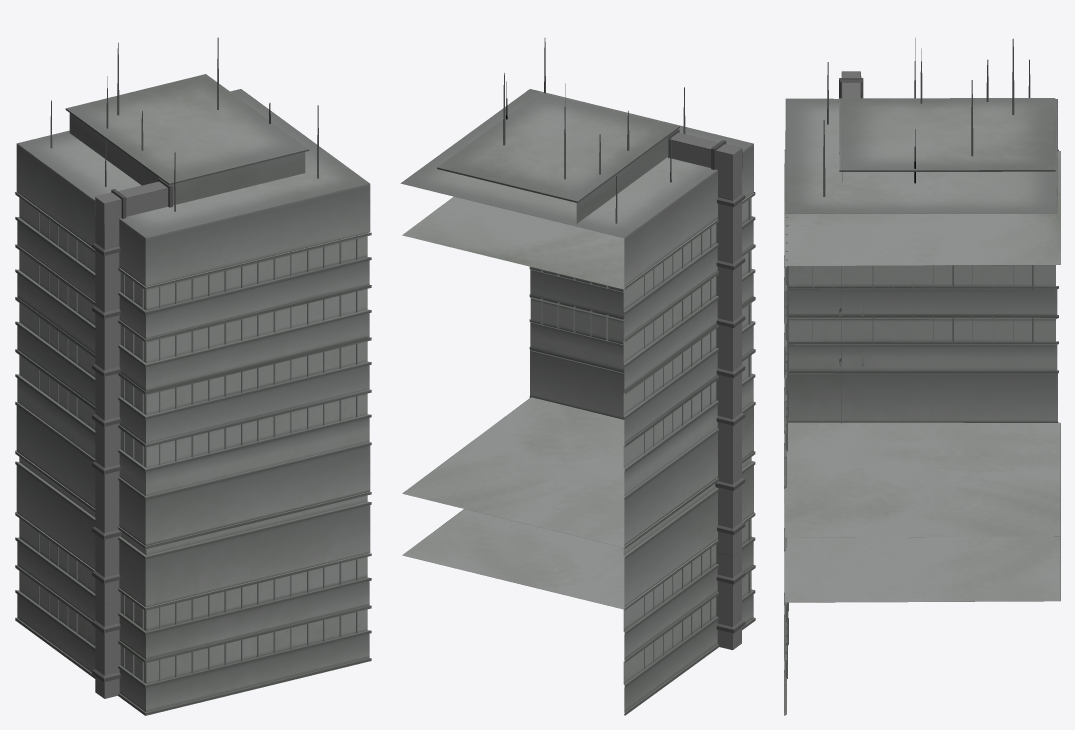
The model's file is VictoriaBuilding1_withMAT.fbx.
3 views of the same model, side by side, from view 1: azimuth 30°, elevation 25°; view 2: azimuth 150°, elevation 25°; view 3: azimuth 270°, elevation 25° (orthographic). The views are drawn at different scales.
Visible parts, largest first — view 1: pCube9, pCube43, pCube44, pCube31, pCube32, pCube42; view 2: pCube9, pPlane1, pCube43, pCube44, pPlane2, pPlane3, pCube32, pCube42; view 3: pCube9, pPlane1, pPlane2, pCube43, pPlane3, pCube31, pCube42, pCube32.
Part boxes in pixels (x1,y1,x2,y2): pCube9: [15, 89, 371, 715]; pCube43: [65, 74, 309, 205]; pCube44: [92, 192, 121, 698]; pCube31: [159, 238, 357, 681]; pCube32: [38, 212, 143, 682]; pCube42: [95, 178, 172, 224]; pCube9: [400, 89, 755, 715]; pPlane1: [402, 397, 754, 547]; pCube43: [437, 92, 679, 223]; pCube44: [715, 148, 745, 649]; pPlane2: [402, 509, 754, 609]; pPlane3: [402, 193, 753, 289]; pCube32: [644, 199, 750, 669]; pCube42: [667, 129, 742, 169]; pCube9: [784, 98, 1058, 715]; pPlane1: [784, 422, 1060, 537]; pPlane2: [784, 536, 1060, 602]; pCube43: [838, 98, 1055, 182]; pPlane3: [784, 151, 1060, 266]; pCube31: [785, 217, 788, 678]; pCube42: [839, 71, 863, 98]; pCube32: [793, 265, 1033, 343].
Bounding box in the file's own units: 9.89 × 23.32 × 9.32.
3 materials, 2 textured.
